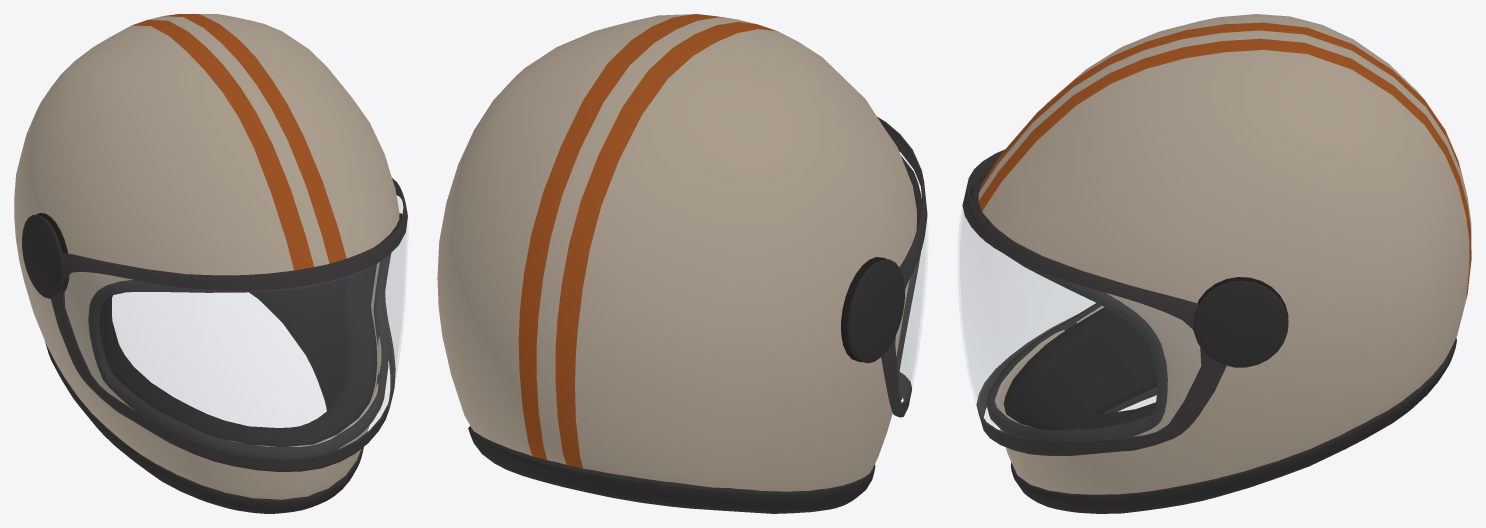
File: Helmet1.glb
The picture shows the model from 3 angles, left to right: view 1: azimuth 30°, elevation 25°; view 2: azimuth 150°, elevation 25°; view 3: azimuth 270°, elevation 25°; orthographic projection. The views are drawn at different scales.
Visible parts, largest first — view 1: Base, Class; view 2: Base, Class; view 3: Base, Class.
Part boxes in pixels (left/top/right/bottom): Base: left=14, top=14, right=402, bottom=513; Class: left=50, top=178, right=407, bottom=471; Base: left=437, top=14, right=921, bottom=513; Class: left=877, top=116, right=927, bottom=417; Base: left=969, top=14, right=1471, bottom=513; Class: left=958, top=149, right=1226, bottom=455.
Bounding box in the file's own units: 0.6296 × 0.7243 × 0.7529.
2 materials, 1 textured.
